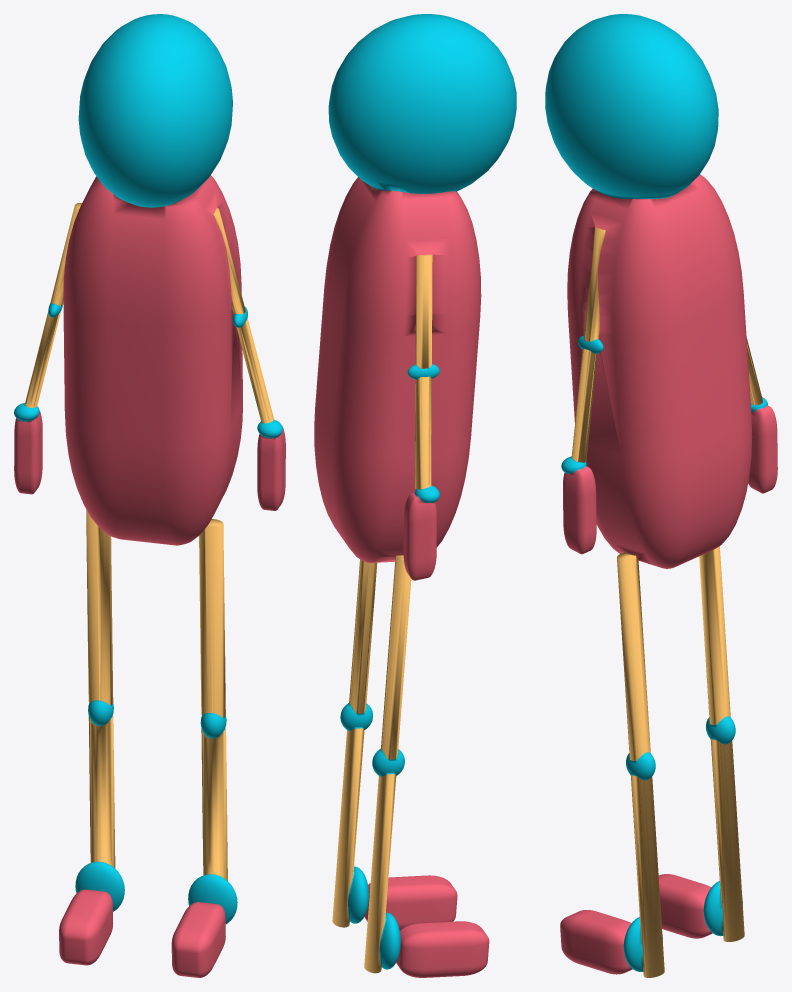
File: bobbleboy.glb
3 views of the same model, side by side, from view 1: azimuth 30°, elevation 25°; view 2: azimuth 150°, elevation 25°; view 3: azimuth 270°, elevation 25° (orthographic).
Visible parts, largest first — view 1: obj_0; view 2: obj_0; view 3: obj_0.
Part boxes in pixels (<box>): obj_0: <box>14,14,285,977</box>; obj_0: <box>314,14,516,977</box>; obj_0: <box>545,14,777,977</box>.
Bounding box in the file's own units: 25.2 × 122 × 27.73.
